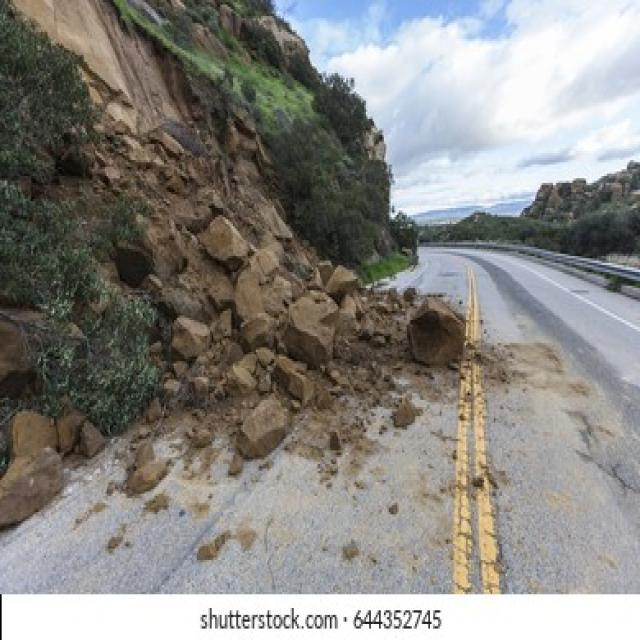road collapse: (0, 0, 594, 574)
